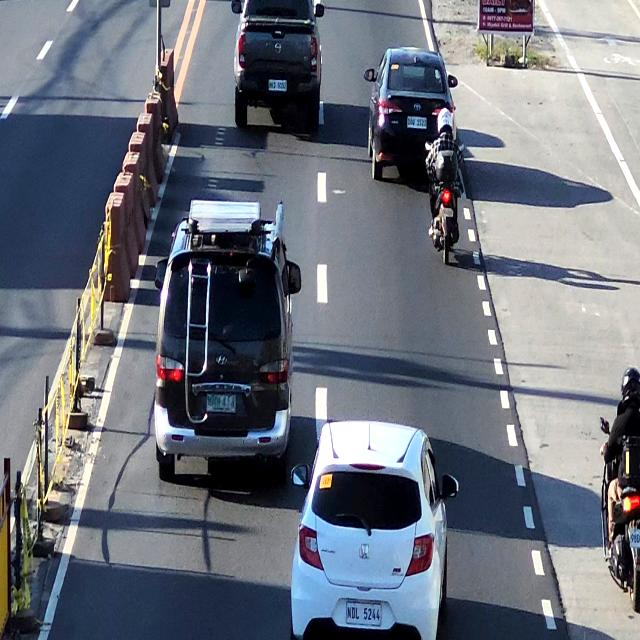Car: (157, 203, 291, 466), (299, 415, 451, 640), (232, 0, 321, 132), (368, 54, 454, 175)
License-Plate: (346, 596, 381, 626), (206, 393, 237, 416), (407, 114, 429, 130), (268, 78, 288, 93), (627, 527, 640, 548), (439, 208, 454, 216)
Motorcycle: (596, 363, 640, 613), (427, 104, 462, 270)
